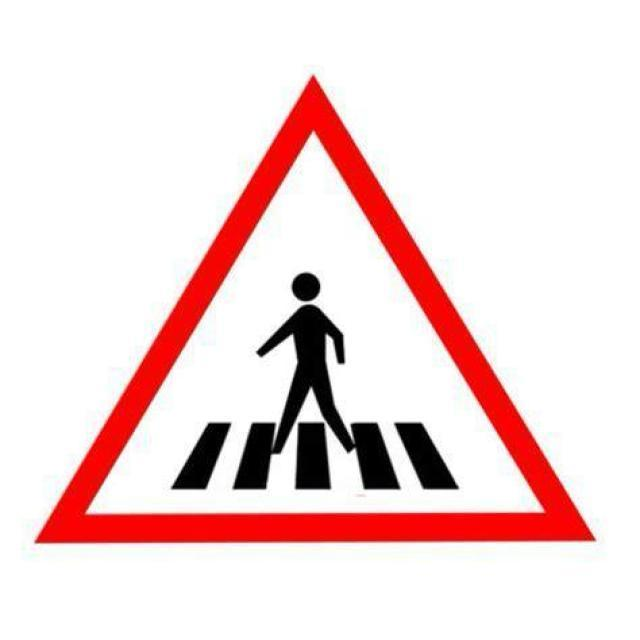pedestrian crossing: (35, 72, 591, 544)
